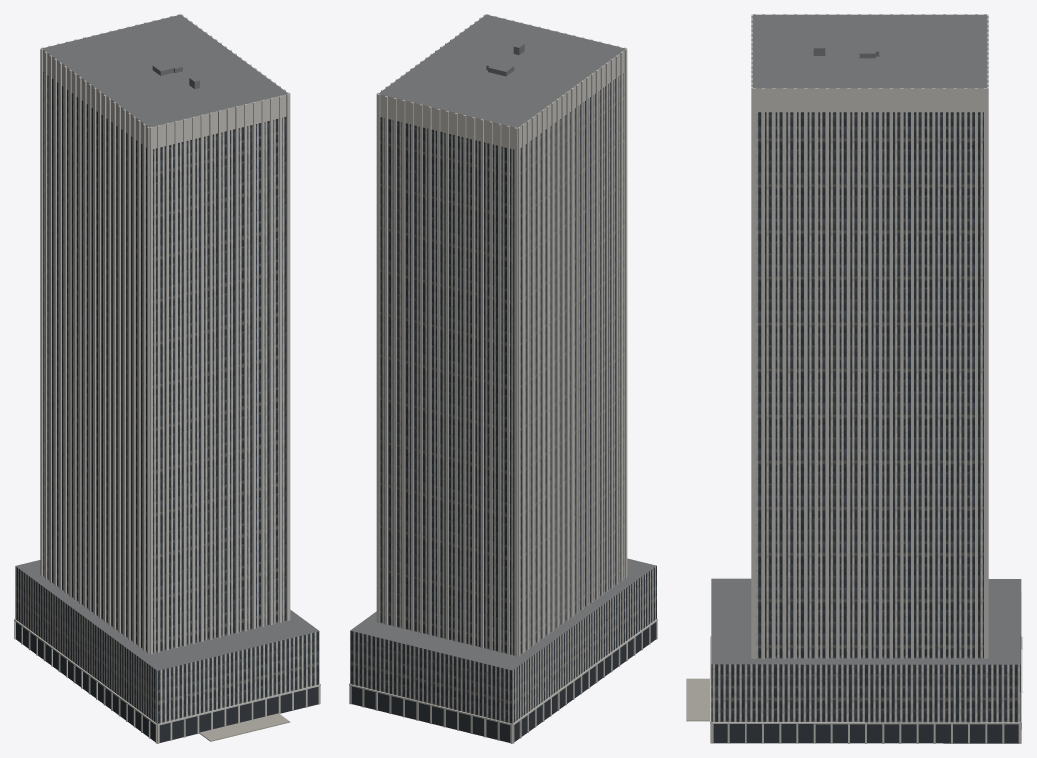
The model's file is gm_building.glb.
3 renders of one model, left to right at view 1: azimuth 30°, elevation 25°; view 2: azimuth 150°, elevation 25°; view 3: azimuth 270°, elevation 25°, orthographic. The views are drawn at different scales.
Parts seen in each view (by area): view 1: gm_building; view 2: gm_building; view 3: gm_building.
Part boxes in pixels (left/top/right/bottom): gm_building: left=14, top=14, right=320, bottom=743; gm_building: left=349, top=14, right=657, bottom=743; gm_building: left=686, top=14, right=1022, bottom=743.
Size of the model in its own units: 61.7 by 217 by 100.
2 materials, 2 textured.
